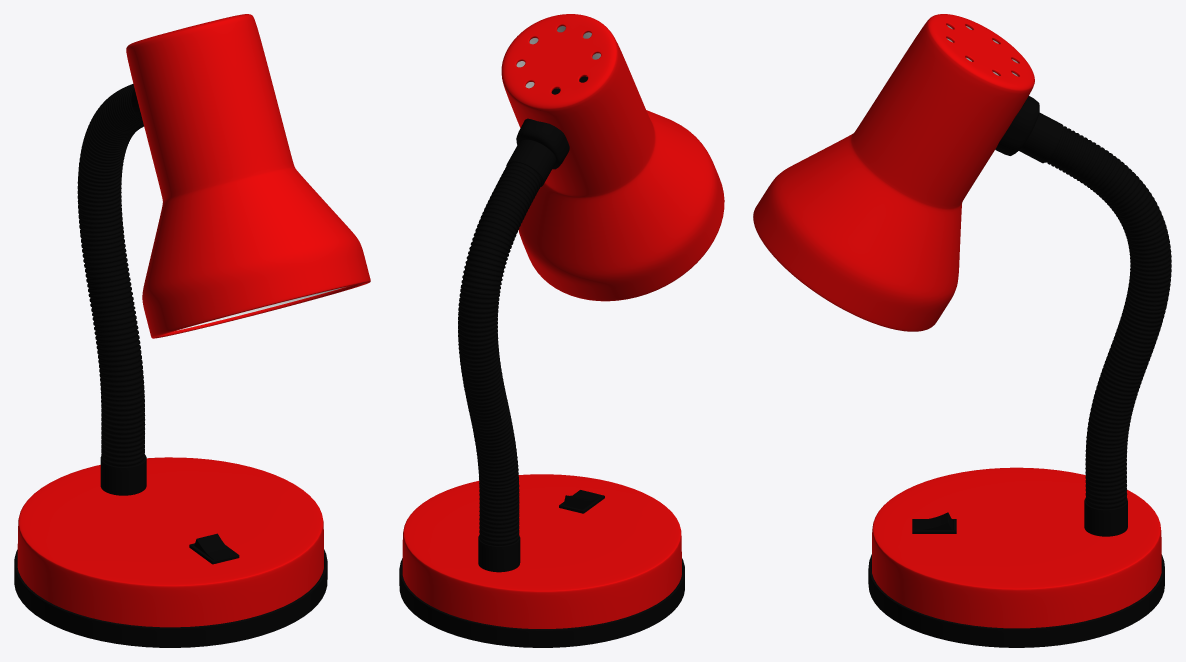
3 renders of one model, left to right at view 1: azimuth 30°, elevation 25°; view 2: azimuth 150°, elevation 25°; view 3: azimuth 270°, elevation 25°, orthographic. The views are drawn at different scales.
Visible parts, largest first — view 1: diffuser, stand_metall, hose, stand_plastic, hose_lower_part, switcher_button; view 2: diffuser, stand_metall, hose, stand_plastic, hose_upper_part, hose_lower_part; view 3: diffuser, stand_metall, hose, stand_plastic, hose_upper_part, hose_lower_part.
Part boxes in pixels (x1=…): diffuser: x1=126, y1=14, x2=370, y2=338; stand_metall: x1=17, y1=457, x2=323, y2=627; hose: x1=77, y1=84, x2=145, y2=466; stand_plastic: x1=14, y1=549, x2=327, y2=647; hose_lower_part: x1=100, y1=455, x2=146, y2=495; switcher_button: x1=194, y1=533, x2=234, y2=559; diffuser: x1=501, y1=14, x2=724, y2=301; stand_metall: x1=402, y1=474, x2=681, y2=628; hose: x1=458, y1=162, x2=542, y2=545; stand_plastic: x1=399, y1=558, x2=684, y2=647; hose_upper_part: x1=506, y1=118, x2=569, y2=186; hose_lower_part: x1=478, y1=535, x2=520, y2=572; diffuser: x1=753, y1=14, x2=1034, y2=331; stand_metall: x1=872, y1=467, x2=1161, y2=628; hose: x1=1045, y1=126, x2=1171, y2=509; stand_plastic: x1=868, y1=554, x2=1164, y2=647; hose_upper_part: x1=995, y1=96, x2=1063, y2=163; hose_lower_part: x1=1084, y1=498, x2=1127, y2=536.
Size of the model in its own units: 9.99 by 20.87 by 14.1.
